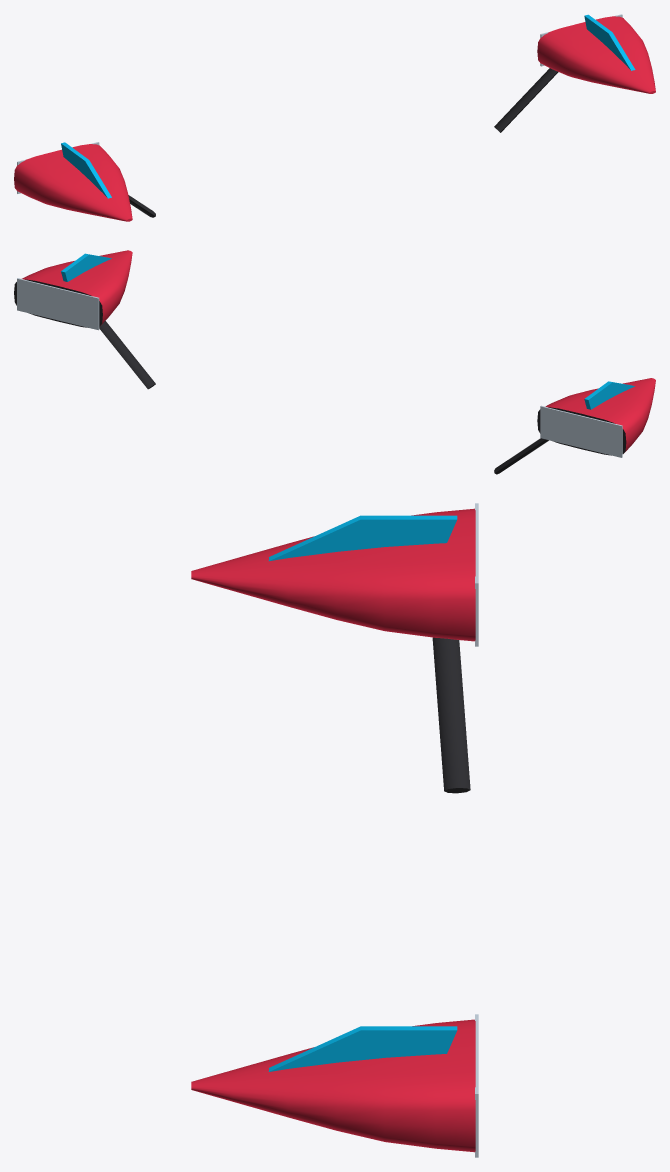
File: bullet.glb
3 renders of one model, top to bottom at view 1: azimuth 30°, elevation 25°; view 2: azimuth 150°, elevation 25°; view 3: azimuth 270°, elevation 25°, orthographic. The views are drawn at different scales.
Visible parts, largest first — view 1: Mirrors_bullet; view 2: Mirrors_bullet, MirrorGlassR.001, MirrorGlassL.001; view 3: Mirrors_bullet.
Boxes of the visible parts, left/top/right/bottom form: Mirrors_bullet: left=14, top=14, right=655, bottom=221; Mirrors_bullet: left=14, top=250, right=655, bottom=474; MirrorGlassR.001: left=540, top=405, right=622, bottom=457; MirrorGlassL.001: left=17, top=278, right=99, bottom=330; Mirrors_bullet: left=191, top=508, right=475, bottom=1152.
Size of the model in its own units: 1.17 by 0.1742 by 0.2375.
